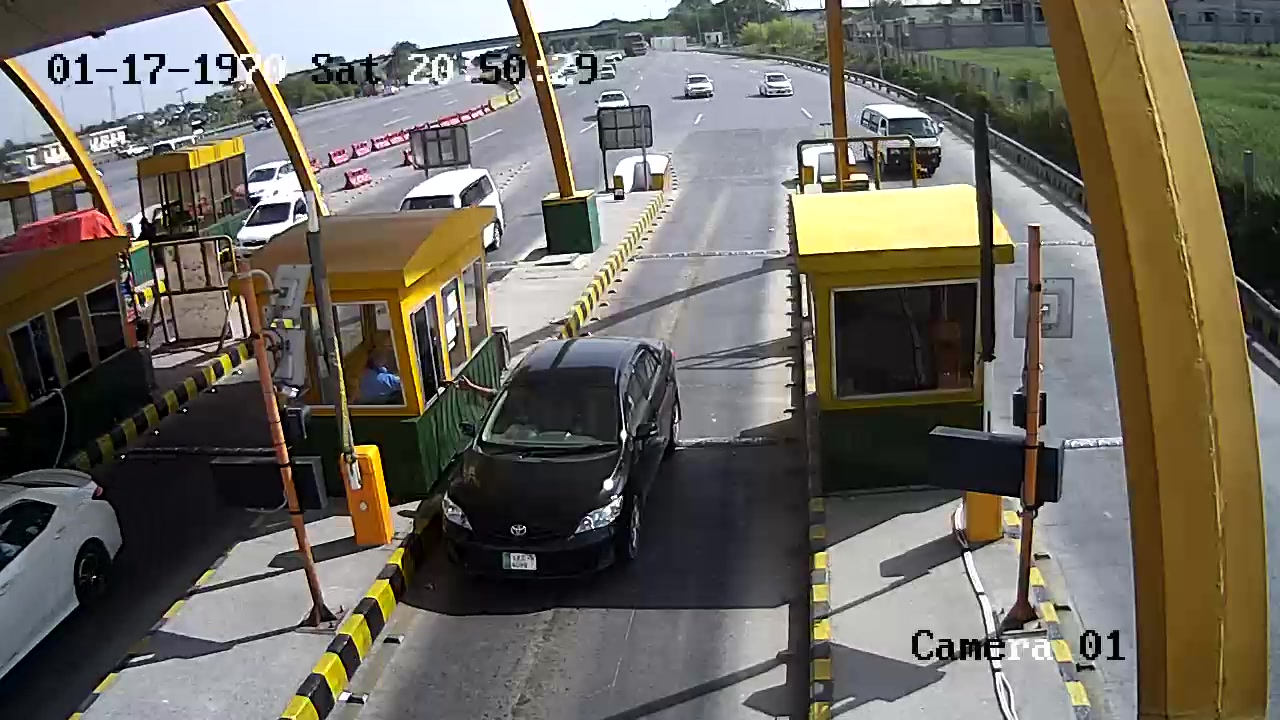F1: (439, 326, 684, 590)
